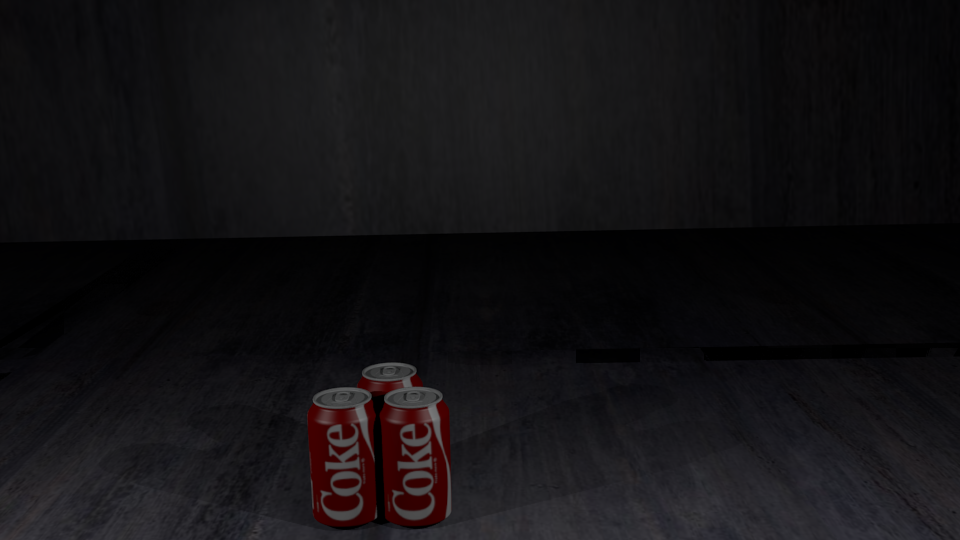cola_can: (307, 388, 380, 523), (379, 387, 450, 521), (357, 363, 422, 489)
